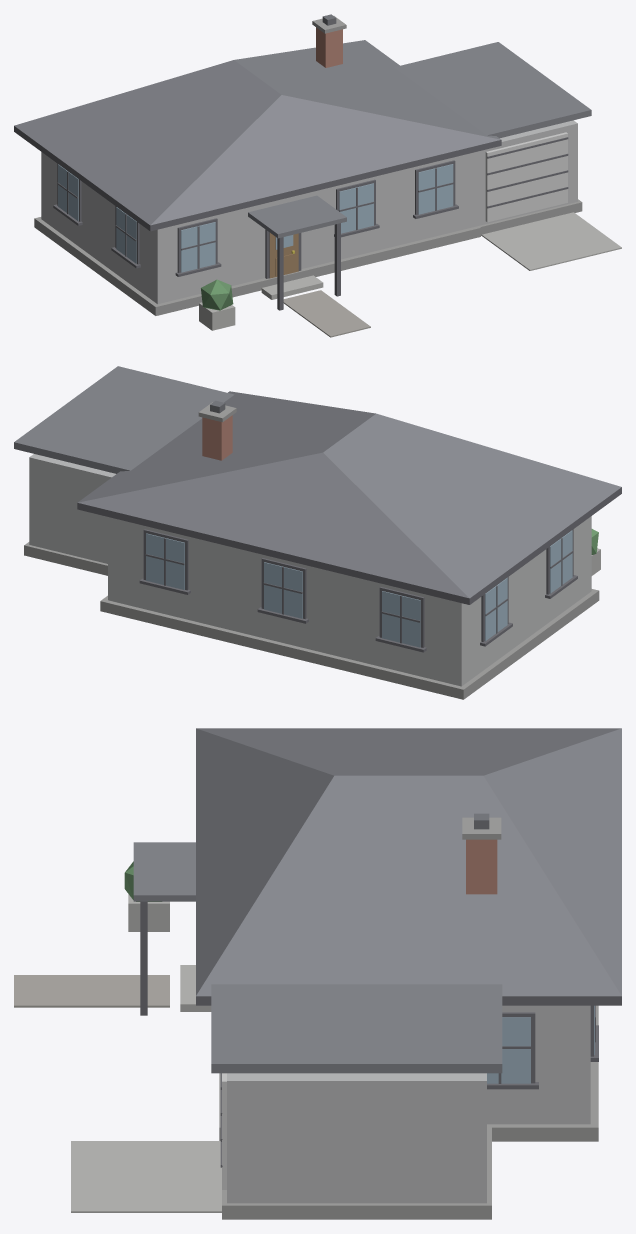
Rendered from Villa_04.glb.
The picture shows the model from 3 angles, top to bottom: view 1: azimuth 30°, elevation 25°; view 2: azimuth 150°, elevation 25°; view 3: azimuth 270°, elevation 25°; orthographic projection. The views are drawn at different scales.
Visible parts, largest first — view 1: Villa_04; view 2: Villa_04; view 3: Villa_04.
Boxes of the visible parts, bbox=[...] form: Villa_04: bbox=[14, 14, 621, 337]; Villa_04: bbox=[14, 366, 621, 699]; Villa_04: bbox=[14, 728, 621, 1219].
Bounding box in the file's own units: 15.5 × 5.8 × 11.7.
